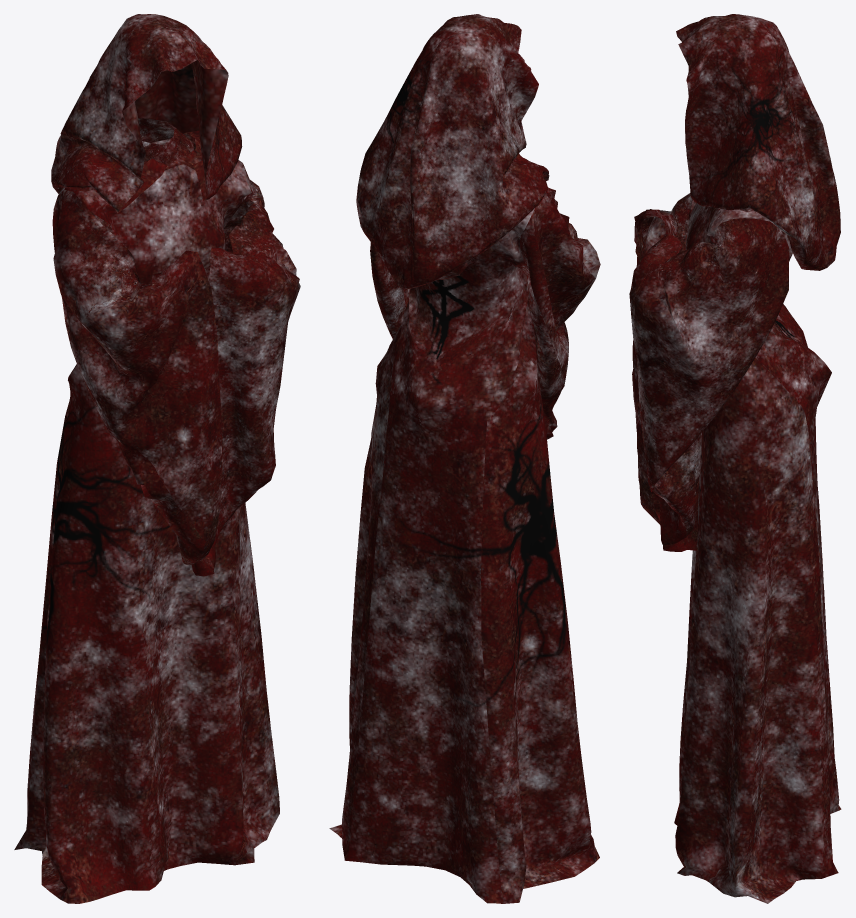
The model's file is ScreenRobe.fbx.
3 views of the same model, side by side, from view 1: azimuth 30°, elevation 25°; view 2: azimuth 150°, elevation 25°; view 3: azimuth 270°, elevation 25° (orthographic).
Parts seen in each view (by area): view 1: Object_3.001, Object_2.001, Object_4.001; view 2: Object_3.001, Object_2.001; view 3: Object_3.001, Object_2.001.
Boxes of the visible parts, x1=… form: Object_3.001: x1=14, y1=133, x2=300, y2=903; Object_2.001: x1=51, y1=14, x2=242, y2=212; Object_4.001: x1=138, y1=118, x2=193, y2=164; Object_3.001: x1=329, y1=187, x2=600, y2=903; Object_2.001: x1=356, y1=14, x2=549, y2=288; Object_3.001: x1=629, y1=193, x2=841, y2=903; Object_2.001: x1=676, y1=14, x2=840, y2=270.
Size of the model in its own units: 53983 by 178986 by 41701.
